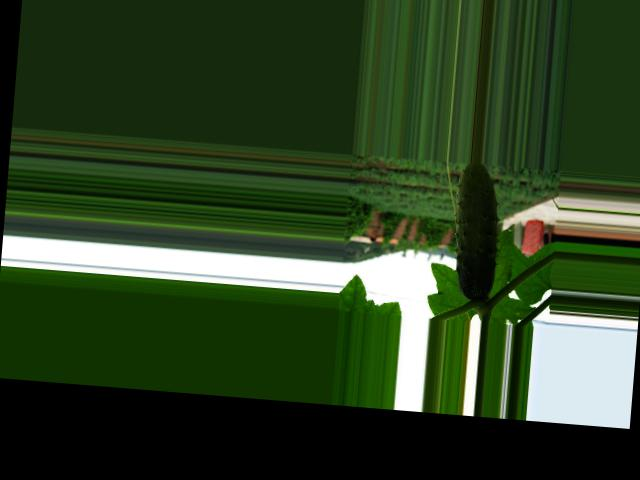cucumber: (448, 161, 503, 301)
